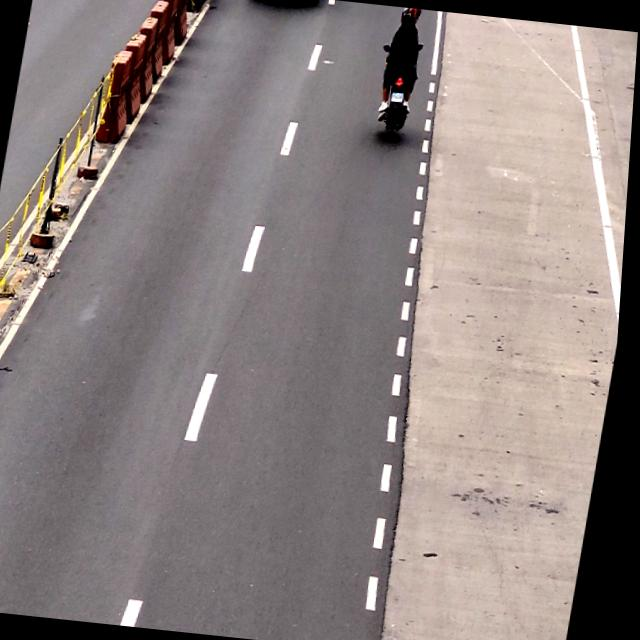License-Plate: (390, 90, 407, 104)
Motorcycle: (374, 7, 428, 144)
